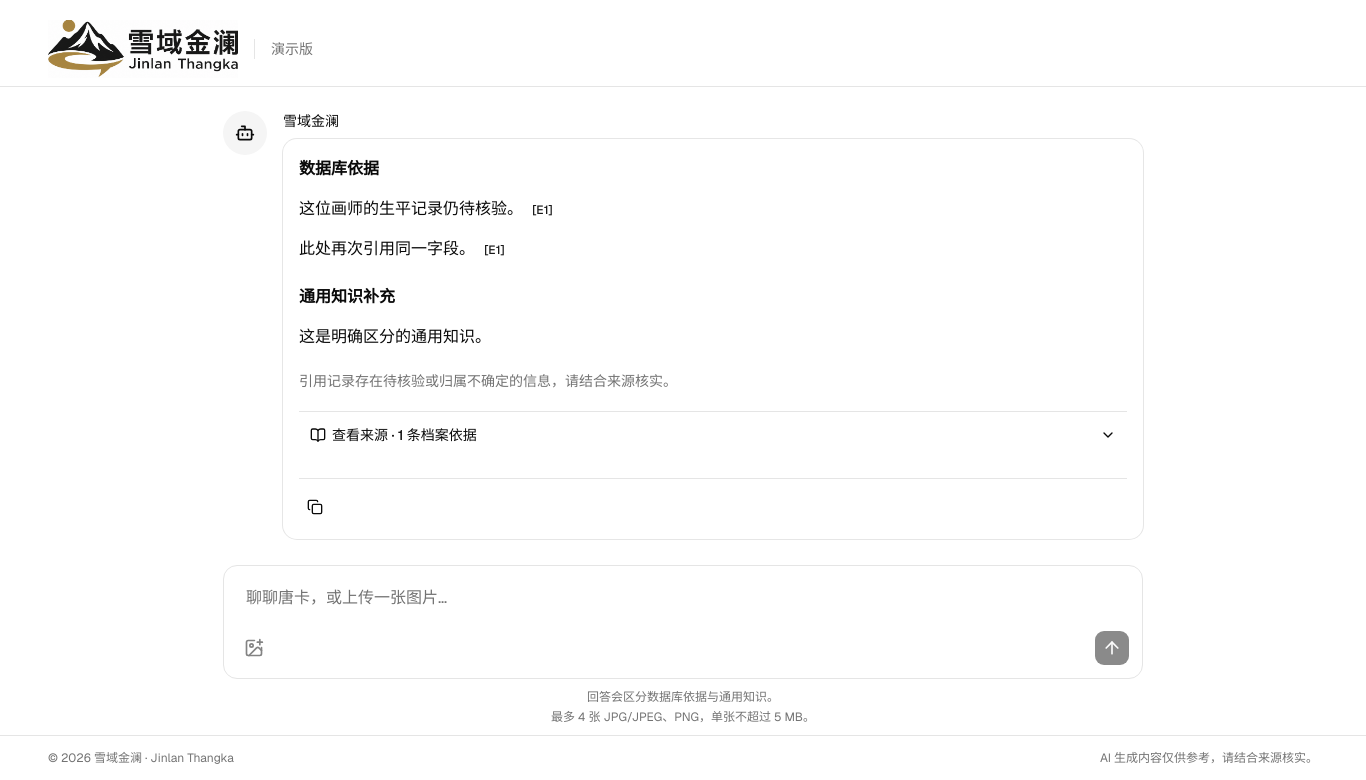
Test case: renders exact source associations, inert markup and blank/record-only qualifications
The image size is (1366, 780).
Click the button "查看来源 · 1 条档案依据" at [360, 435], box x1=299 y1=424 x2=1127 y2=446
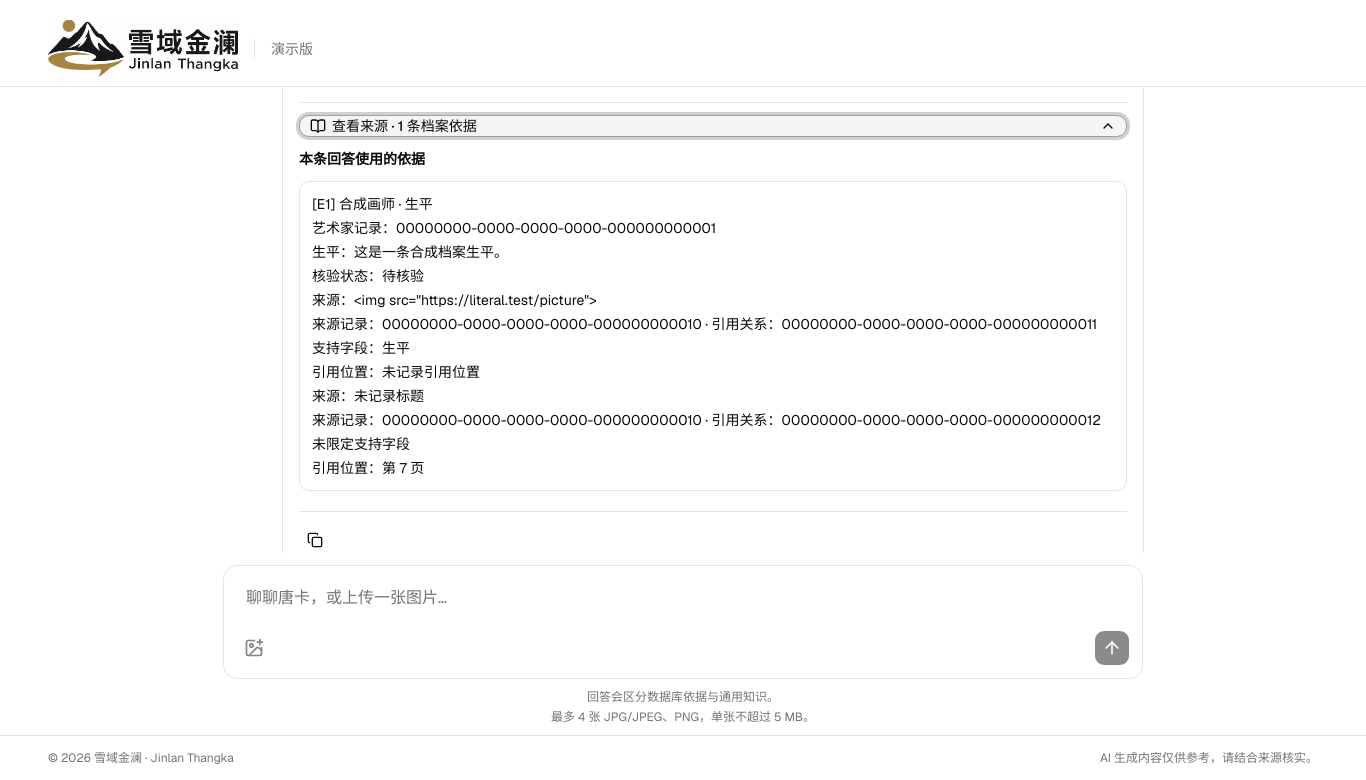
Expected: the element "本条回答使用的依据" shows "未记录标题", x1=312 y1=387 x2=424 y2=405
Expected: the element "本条回答使用的依据" shows "未记录引用位置", x1=312 y1=363 x2=480 y2=381
Expected: the element "本条回答使用的依据" shows "未限定支持字段", x1=312 y1=435 x2=410 y2=453
